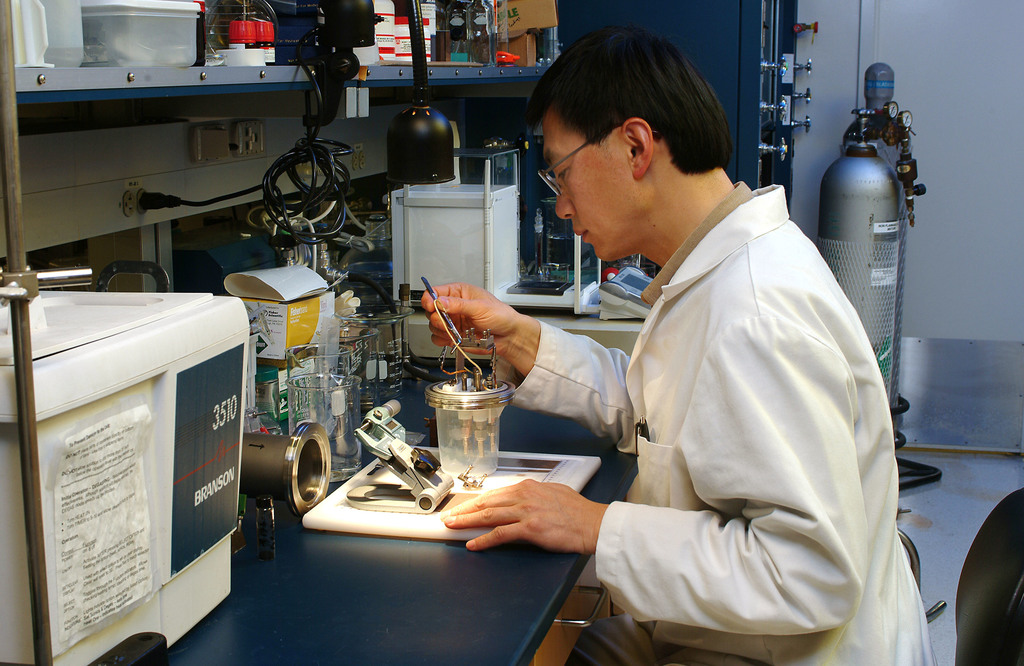Person: (420, 22, 938, 666)
